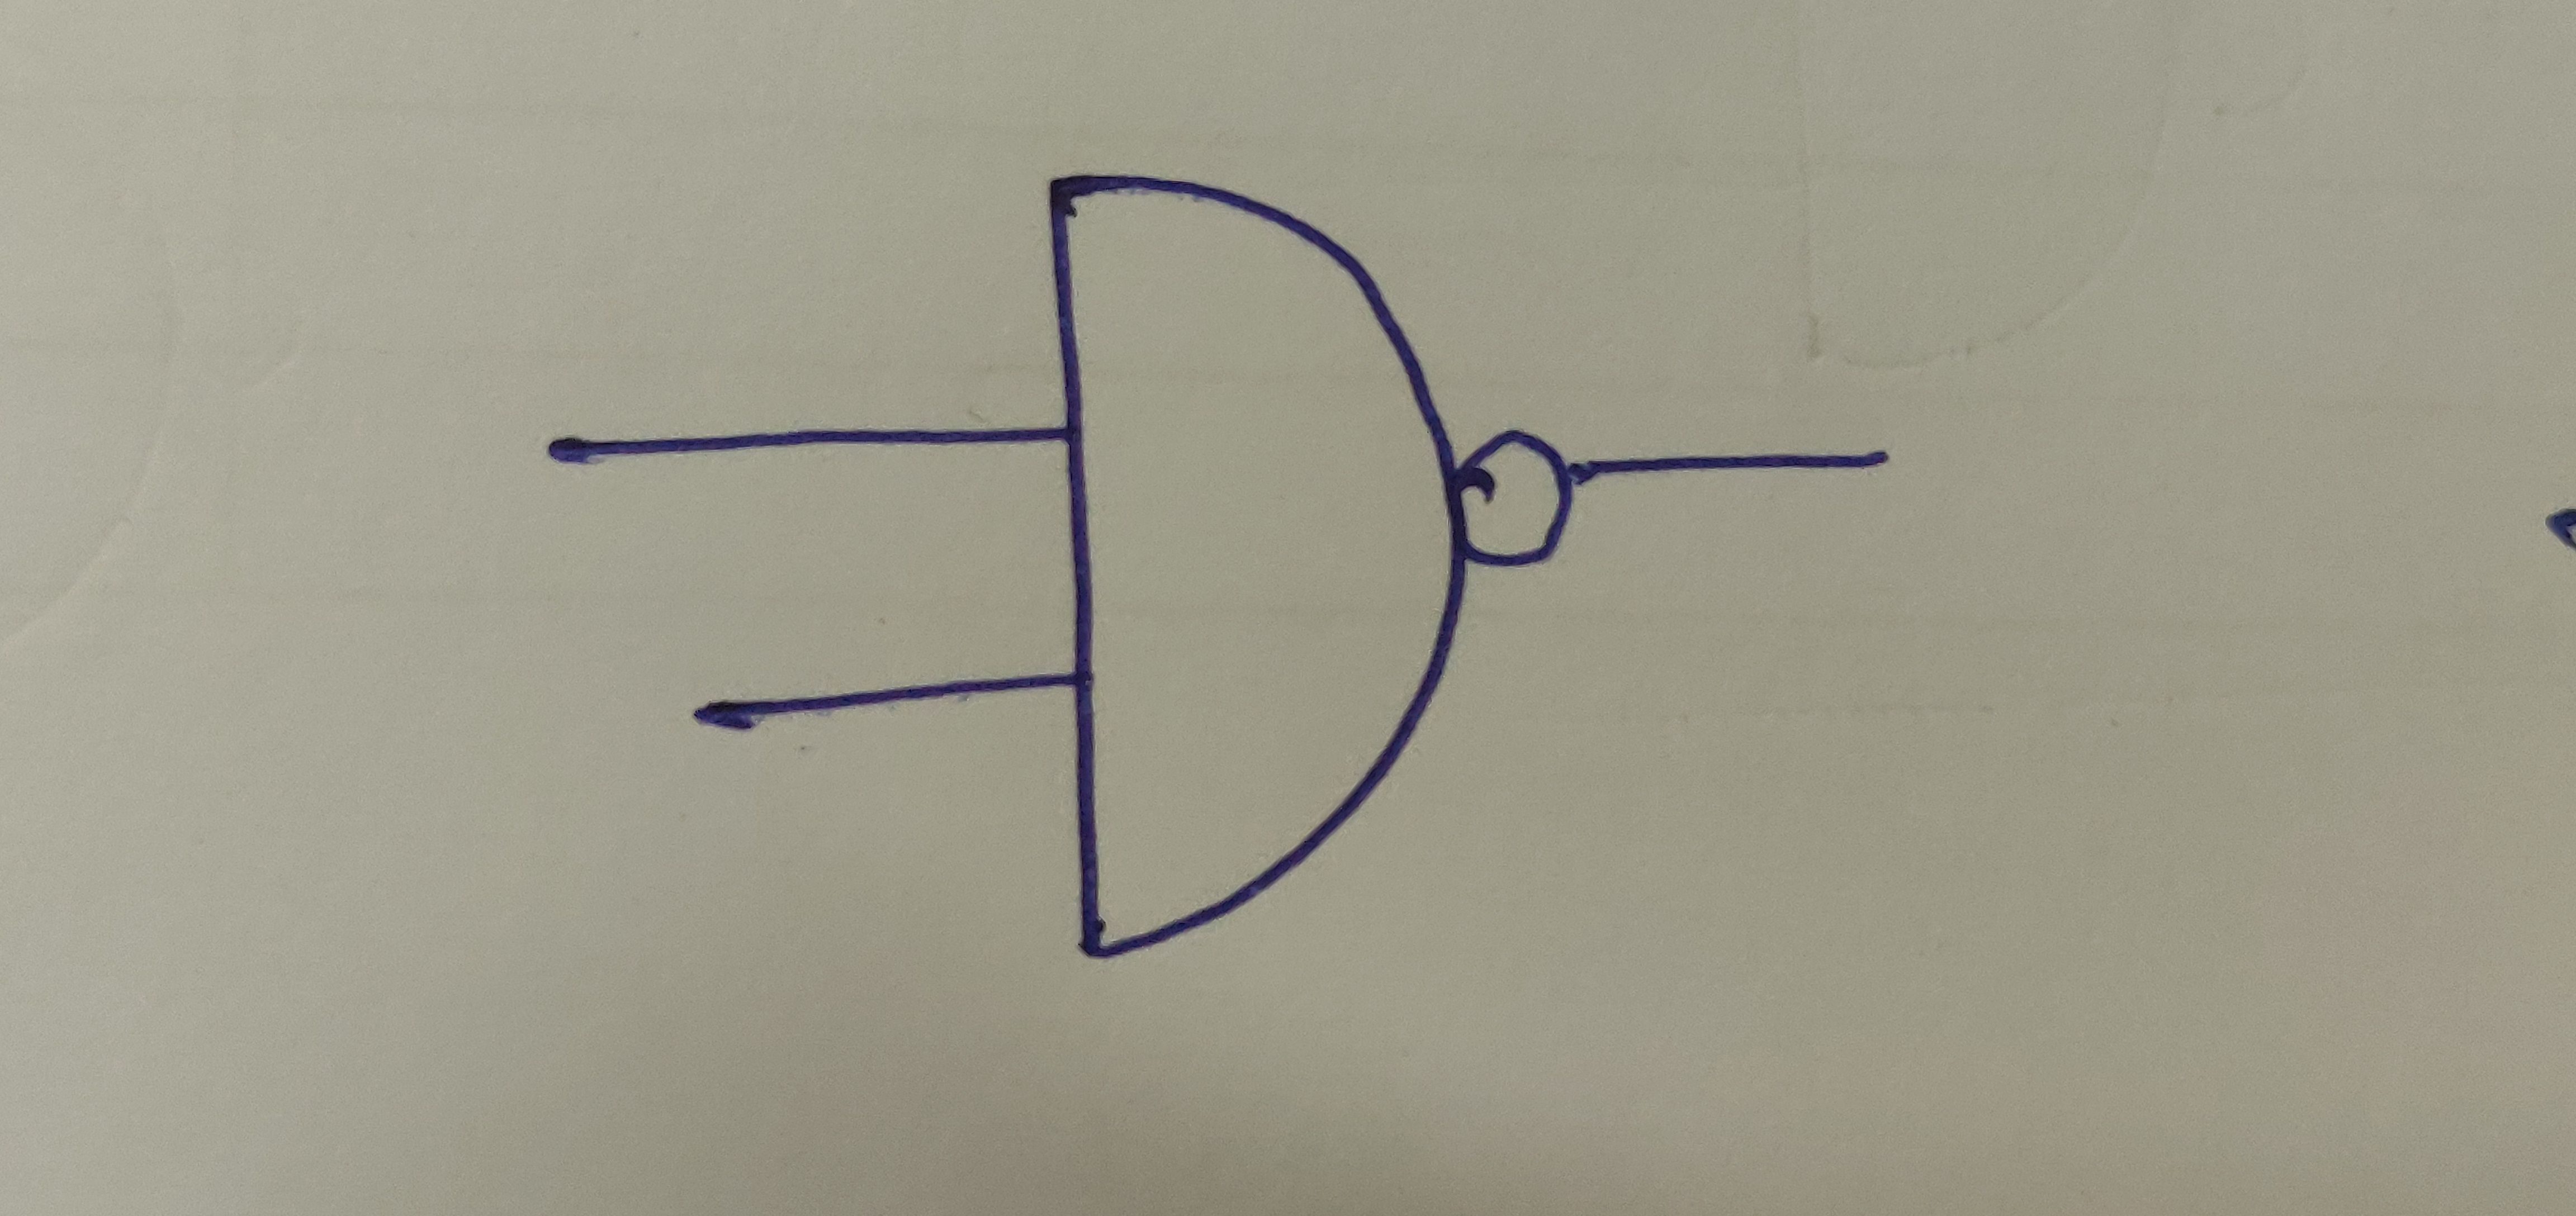and: (1038, 171, 1470, 960)
not: (1446, 426, 1575, 572)
